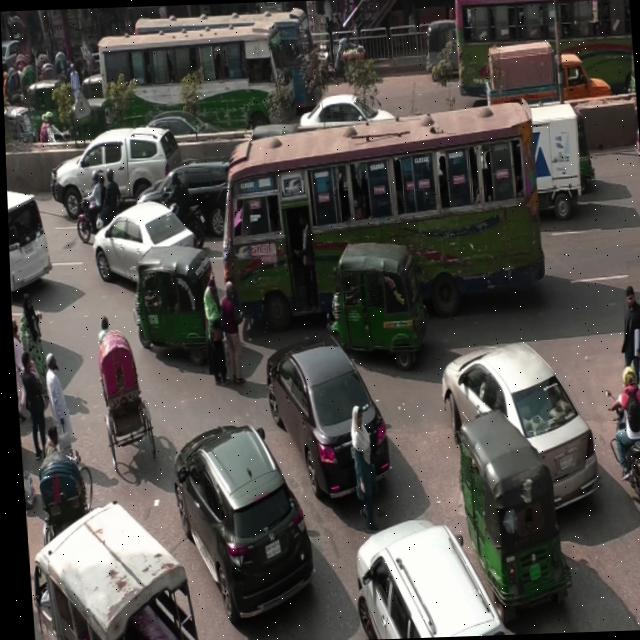cng: (436, 397, 569, 616), (120, 230, 235, 376), (317, 227, 423, 353)
rikshaw: (84, 315, 161, 482), (32, 413, 93, 557)
